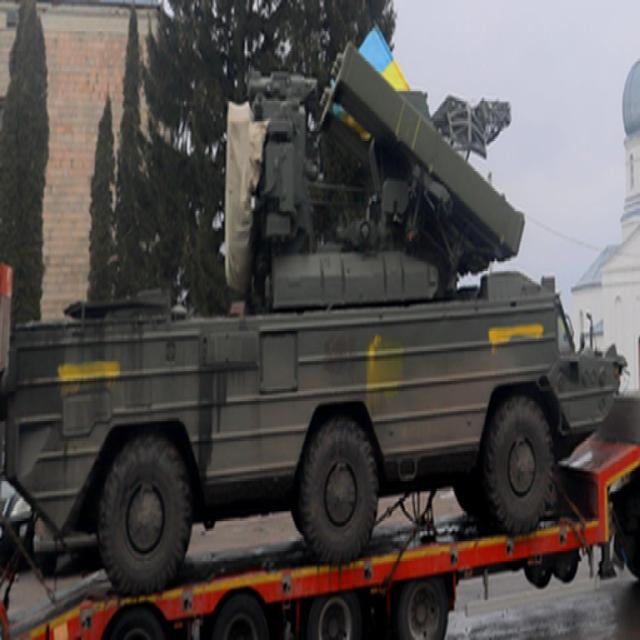MLRS: (4, 40, 625, 589)
